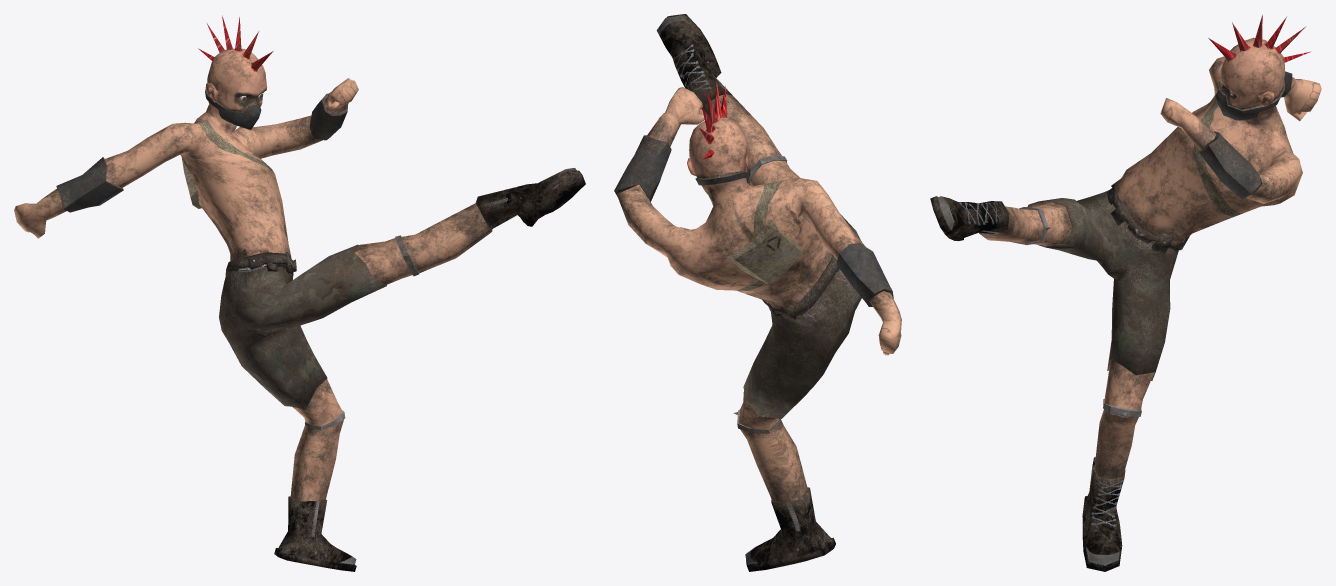
The model's file is Anim_ataque_f1_npc2.0020.obj.
3 views of the same model, side by side, from view 1: azimuth 30°, elevation 25°; view 2: azimuth 150°, elevation 25°; view 3: azimuth 270°, elevation 25° (orthographic). The views are drawn at different scales.
Parts seen in each view (by area): view 1: polySurface1; view 2: polySurface1; view 3: polySurface1.
Part boxes in pixels (bbox=[...]): polySurface1: bbox=[14, 15, 585, 571]; polySurface1: bbox=[614, 14, 901, 571]; polySurface1: bbox=[930, 15, 1321, 571].
Bounding box in the file's own units: 7.68 × 9.42 × 6.19.
